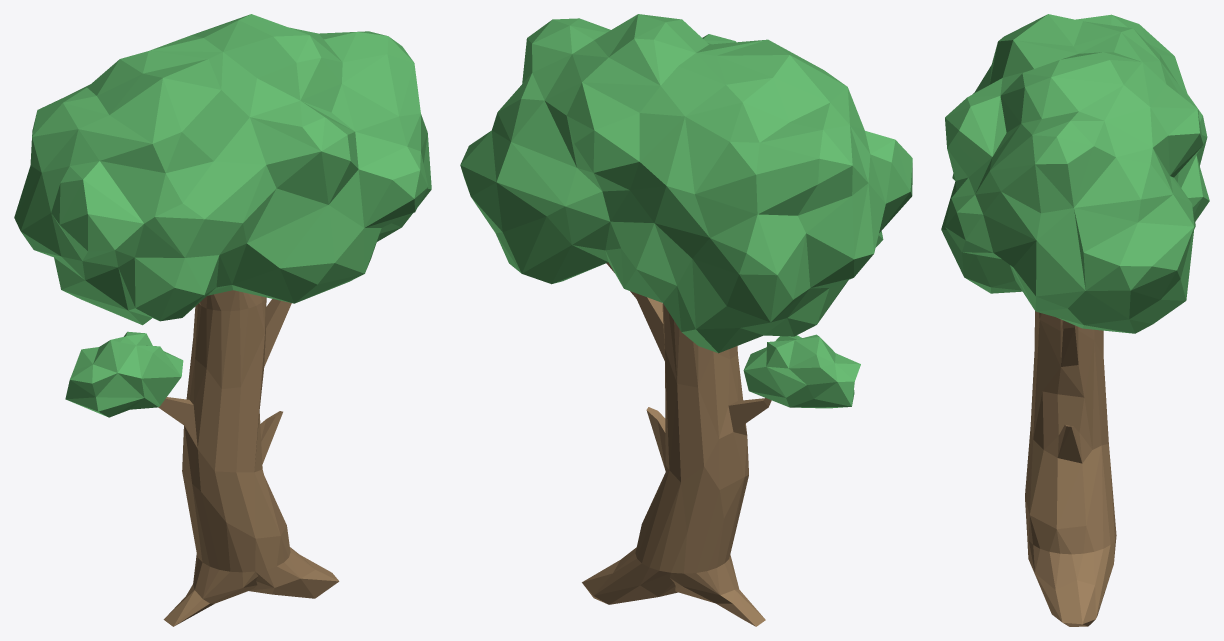
The model's file is tree_1.glb.
The picture shows the model from 3 angles, left to right: view 1: azimuth 30°, elevation 25°; view 2: azimuth 150°, elevation 25°; view 3: azimuth 270°, elevation 25°; orthographic projection. The views are drawn at different scales.
Parts seen in each view (by area): view 1: tree1; view 2: tree1; view 3: tree1.
Part boxes in pixels (bbox=[...]): tree1: bbox=[14, 14, 431, 626]; tree1: bbox=[460, 14, 912, 626]; tree1: bbox=[941, 14, 1209, 626].
Size of the model in its own units: 2.98 by 4.2 by 1.87.
